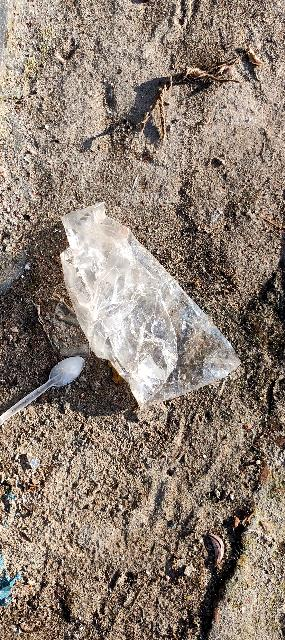polythene: (2, 166, 265, 461)
